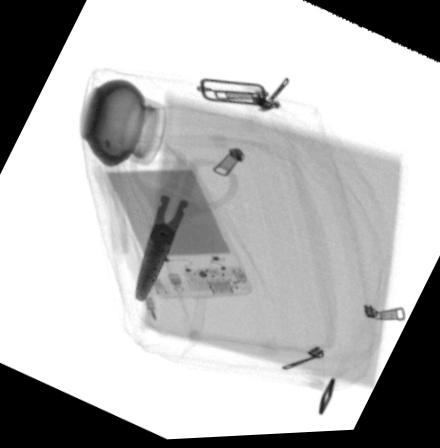Powerbank: (96, 158, 254, 299)
Scissors: (127, 141, 241, 304)
